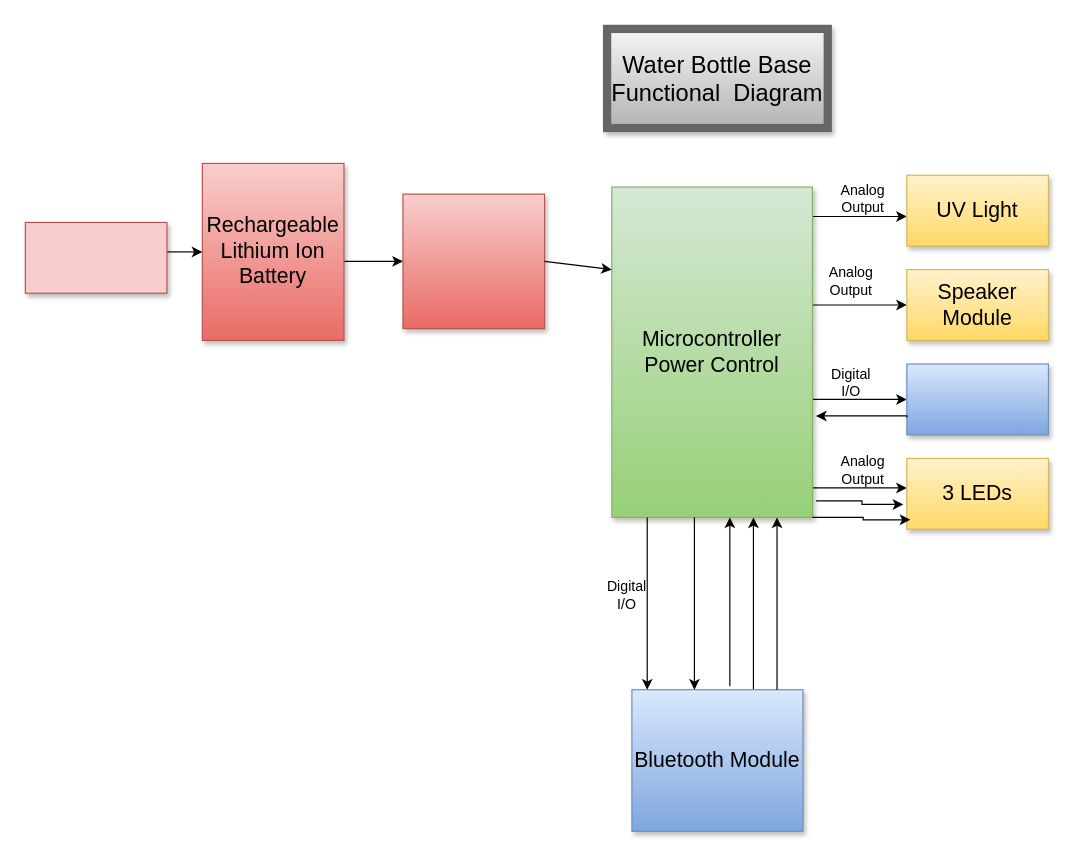
Image size: 1076x860. Some labels were removed from this diagram. The centre of each missing label's shape, as x and y in pixels:
"Lithium Ion Charger Port" goes at point 96,259.
"Power Switch On/Off" goes at point 474,262.
"Water Sensor Module" goes at point 978,400.
